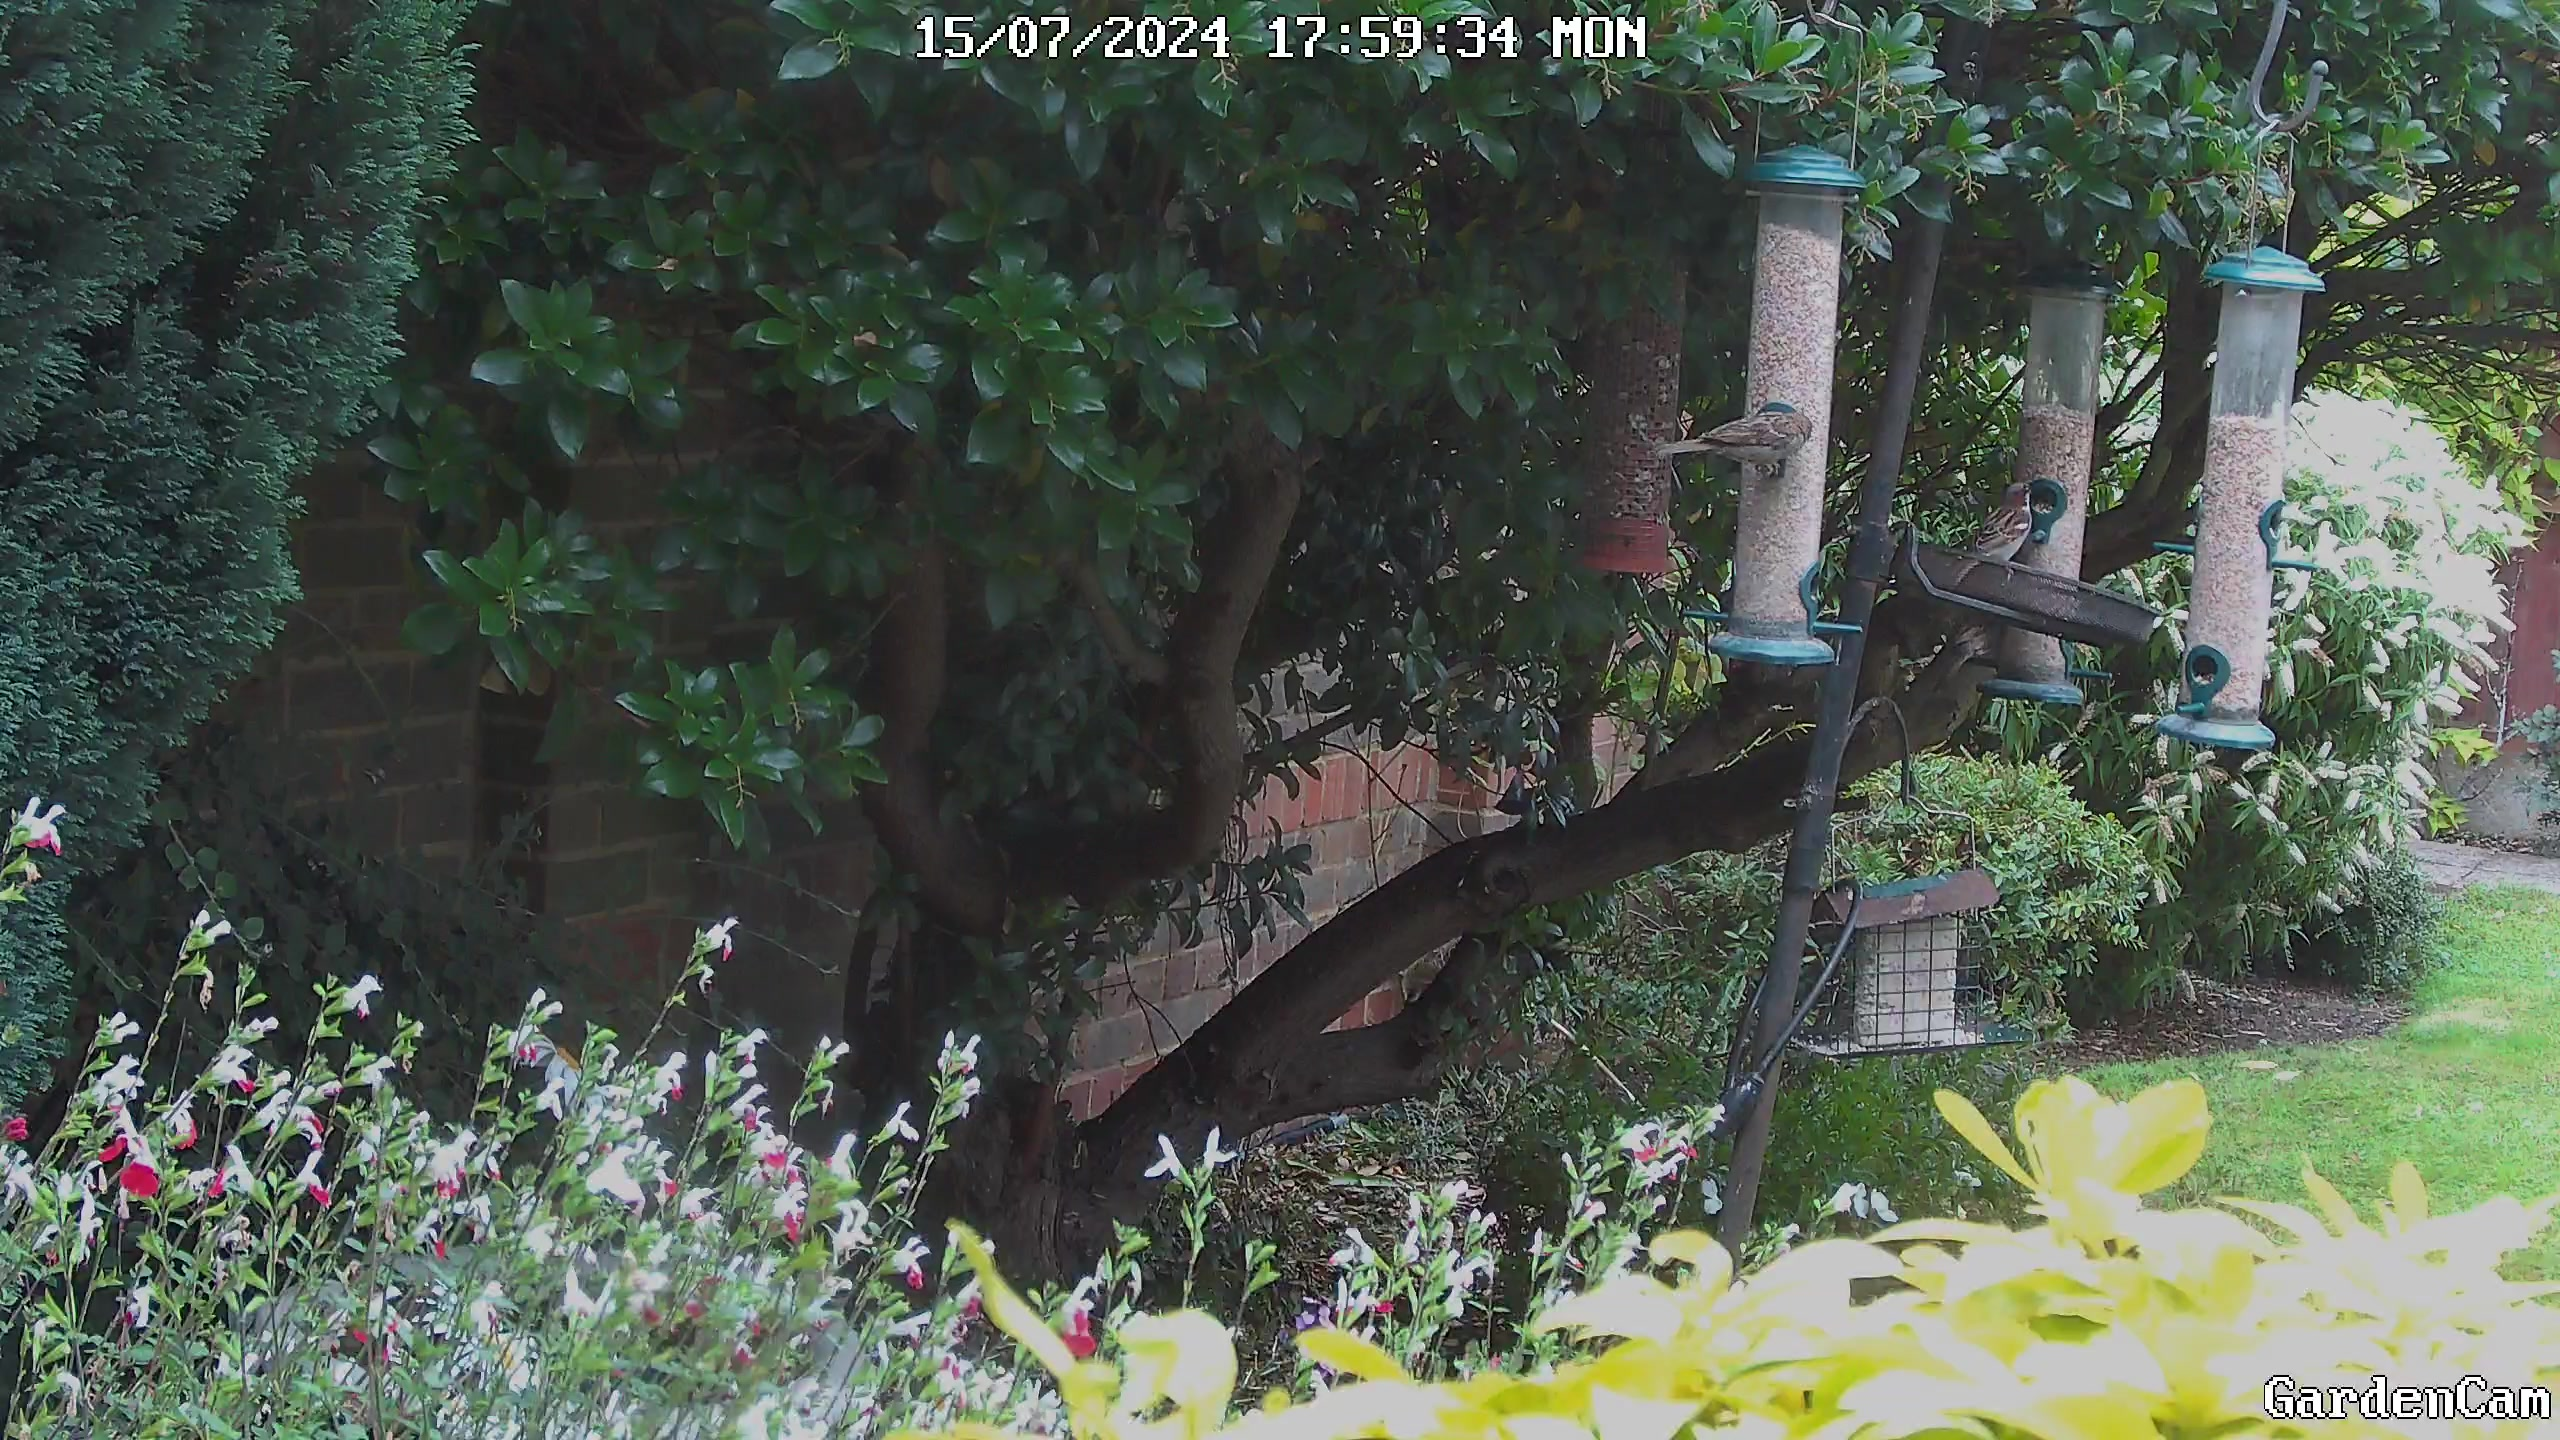House_Sparrow: (1640, 383, 1846, 515), (1939, 473, 2052, 587)
